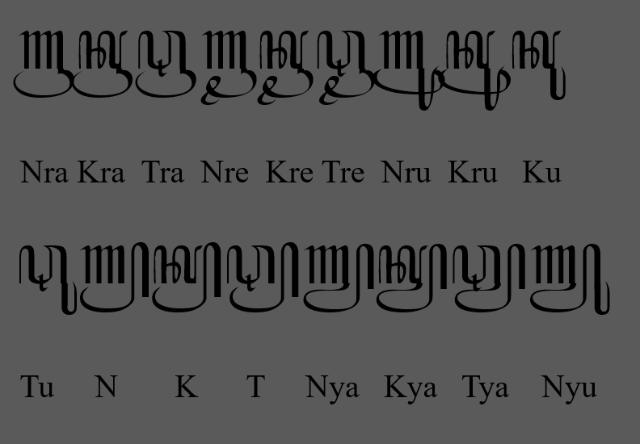-K: (152, 240, 222, 314)
-N: (78, 242, 150, 314)
-T: (226, 242, 300, 314)
Kr: (71, 29, 133, 99)
Kre: (256, 30, 314, 106)
Kru: (437, 30, 511, 113)
Ku: (511, 29, 567, 101)
Ky: (376, 242, 448, 314)
Nr: (13, 30, 75, 98)
Nre: (200, 30, 258, 106)
Nru: (372, 30, 446, 112)
Ny: (302, 242, 376, 314)
Nyu: (529, 243, 611, 317)
Tr: (135, 30, 197, 98)
Tre: (317, 29, 375, 106)
Tu: (20, 244, 78, 316)
Ty: (452, 244, 526, 314)
